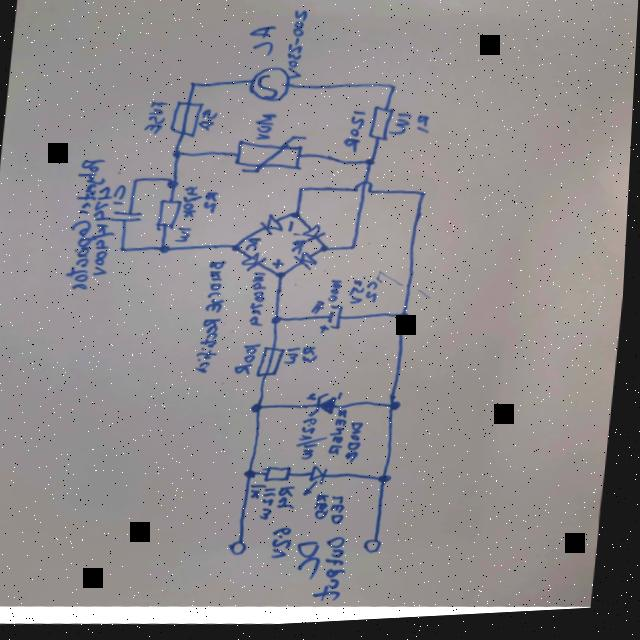capacitor: (320, 307, 346, 338), (109, 211, 147, 225)
crossover: (351, 182, 381, 200)
diode: (307, 394, 346, 422), (306, 469, 333, 501), (259, 215, 288, 240), (241, 254, 269, 276), (302, 227, 330, 247), (293, 255, 321, 275)
junction: (397, 315, 412, 329), (388, 402, 403, 416), (252, 405, 268, 418), (158, 245, 172, 257), (166, 180, 180, 191), (171, 151, 184, 161), (131, 177, 144, 187), (272, 318, 285, 328), (119, 246, 131, 256), (276, 273, 288, 283), (320, 248, 332, 258), (249, 472, 261, 482), (230, 246, 243, 255), (297, 189, 310, 198), (364, 162, 377, 171), (348, 247, 361, 256), (385, 87, 398, 96), (290, 214, 302, 223), (417, 193, 429, 202), (381, 479, 393, 488), (188, 82, 199, 91)
resistor: (368, 110, 395, 146), (156, 200, 184, 232), (266, 468, 297, 487)
source: (246, 67, 291, 107)
terminal: (367, 539, 388, 559), (232, 541, 253, 559)
text: (64, 158, 106, 293), (196, 262, 228, 377), (89, 186, 118, 280), (318, 538, 354, 608), (329, 410, 371, 467), (283, 12, 309, 83), (299, 421, 333, 465), (249, 274, 272, 330), (299, 543, 327, 585), (342, 113, 367, 159), (245, 26, 277, 60), (273, 529, 302, 563), (142, 102, 169, 137), (235, 345, 262, 379), (178, 188, 205, 221), (252, 114, 278, 144), (263, 489, 284, 526), (280, 488, 302, 516), (332, 498, 351, 530), (316, 496, 336, 524), (389, 116, 411, 141), (196, 110, 218, 134), (349, 282, 368, 309), (412, 117, 433, 140), (364, 283, 382, 307), (202, 192, 219, 217), (285, 349, 305, 369), (303, 347, 321, 369), (174, 228, 194, 246), (252, 485, 270, 505), (329, 283, 343, 307), (245, 239, 263, 255), (114, 185, 126, 207), (292, 243, 309, 258), (312, 304, 330, 317), (273, 261, 285, 272), (288, 224, 297, 234)
